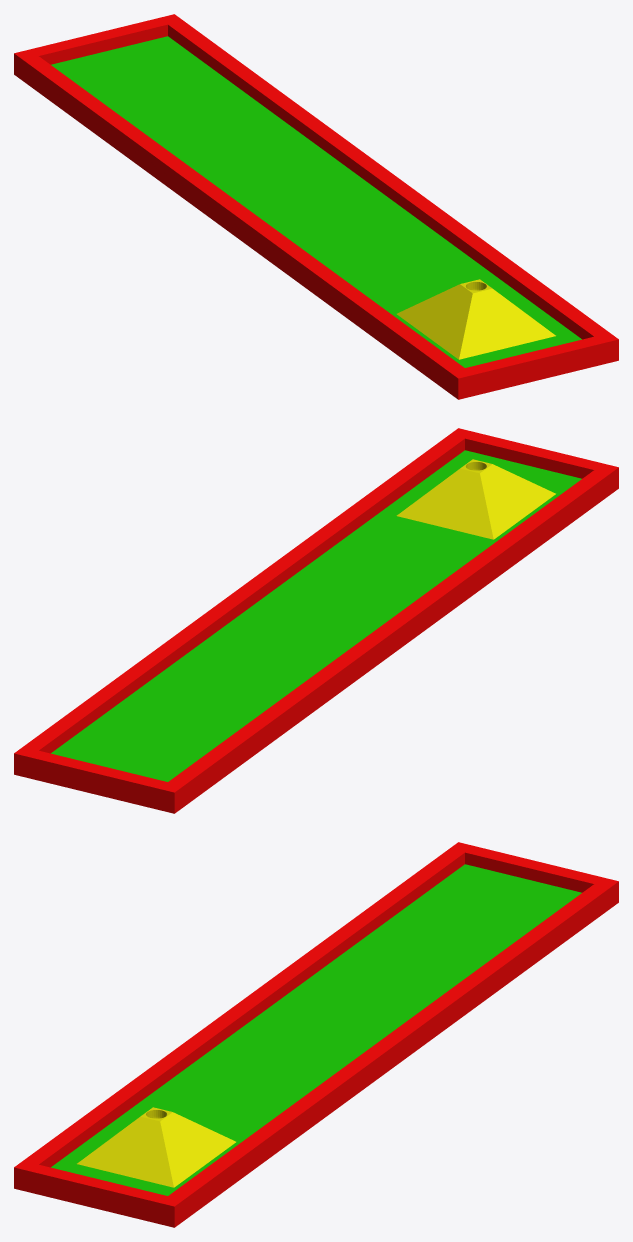
Rendered from Track14.fbx.
3 views of the same model, one above another, from view 1: azimuth 30°, elevation 25°; view 2: azimuth 150°, elevation 25°; view 3: azimuth 330°, elevation 25° (orthographic).
Visible parts, largest first — view 1: BahnF1_Track, BahnF1_Boundary, BahnF1_Extra; view 2: BahnF1_Track, BahnF1_Boundary, BahnF1_Extra; view 3: BahnF1_Track, BahnF1_Boundary, BahnF1_Extra.
Part boxes in pixels (<box>): BahnF1_Track: <box>51,36,581,367</box>; BahnF1_Boundary: <box>14,14,618,399</box>; BahnF1_Extra: <box>397,279,555,359</box>; BahnF1_Track: <box>51,450,581,781</box>; BahnF1_Boundary: <box>14,428,618,813</box>; BahnF1_Extra: <box>396,459,555,539</box>; BahnF1_Track: <box>51,864,581,1195</box>; BahnF1_Boundary: <box>14,842,618,1227</box>; BahnF1_Extra: <box>77,1107,235,1187</box>.
Size of the model in its own units: 87 by 25 by 417.
